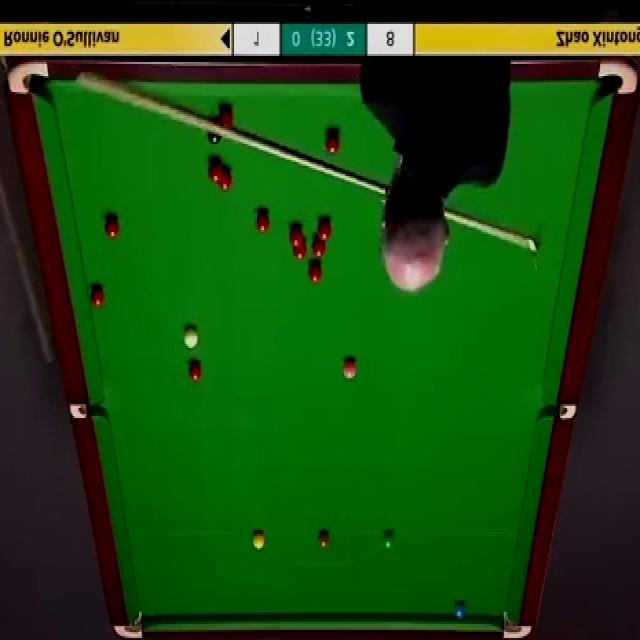black-ball: (208, 130, 221, 144)
blue-ball: (452, 601, 466, 621)
brown-ball: (317, 531, 330, 550)
green-ball: (381, 531, 394, 550)
pink-ball: (342, 356, 358, 378)
red-ball: (102, 216, 119, 242), (218, 166, 232, 192), (317, 219, 331, 244), (327, 129, 340, 155), (90, 285, 104, 309), (255, 212, 269, 236), (208, 160, 223, 182), (290, 225, 305, 246), (292, 241, 307, 262), (219, 104, 234, 125), (312, 237, 326, 259), (188, 362, 202, 380)
white-ball: (183, 328, 198, 350)
yellow-ball: (252, 531, 265, 550)
